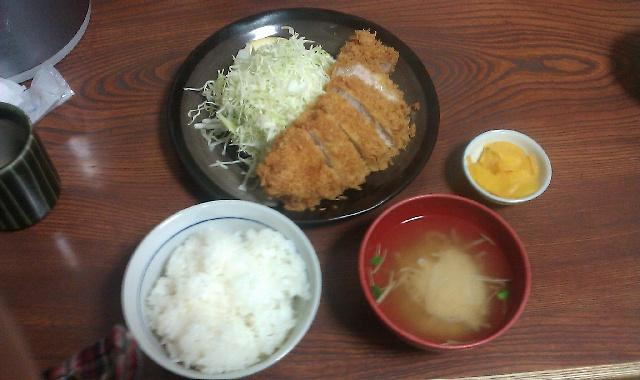rice: (150, 229, 309, 373)
